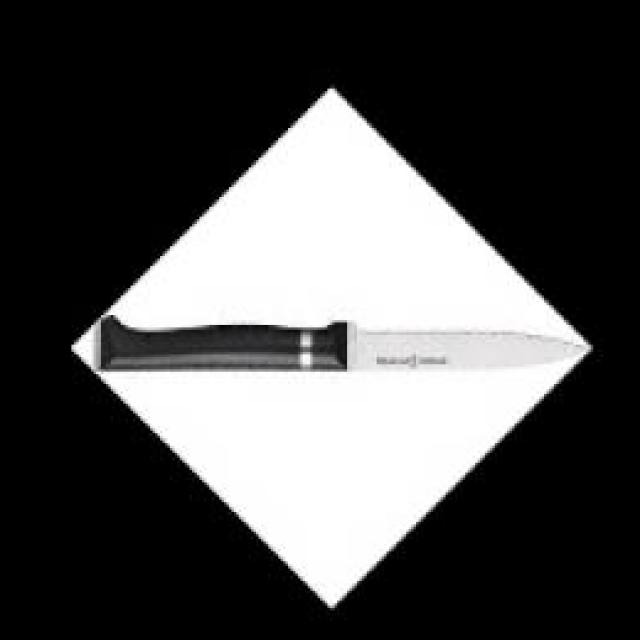knife: (76, 312, 608, 376)
